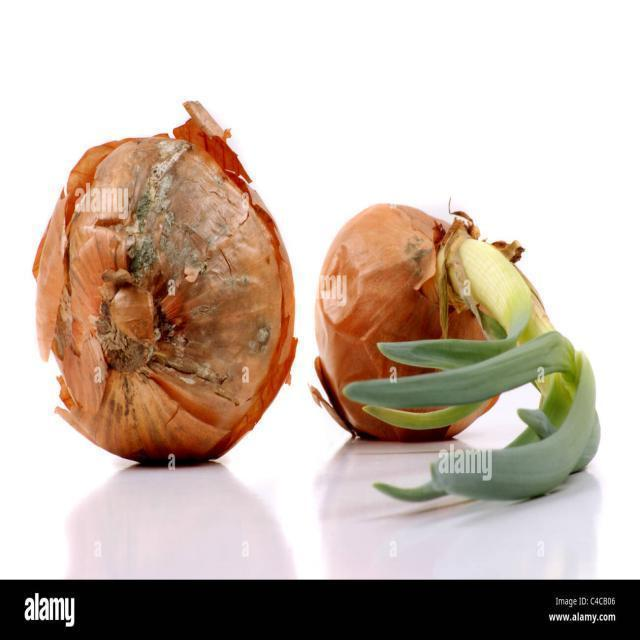Onion: (31, 96, 301, 468), (343, 230, 600, 502), (310, 199, 526, 439)
